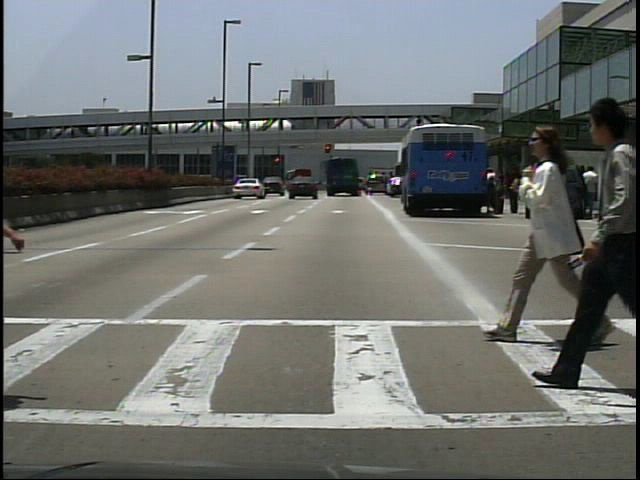person: (498, 116, 592, 350), (582, 168, 602, 218), (485, 162, 502, 215), (505, 166, 523, 215)
